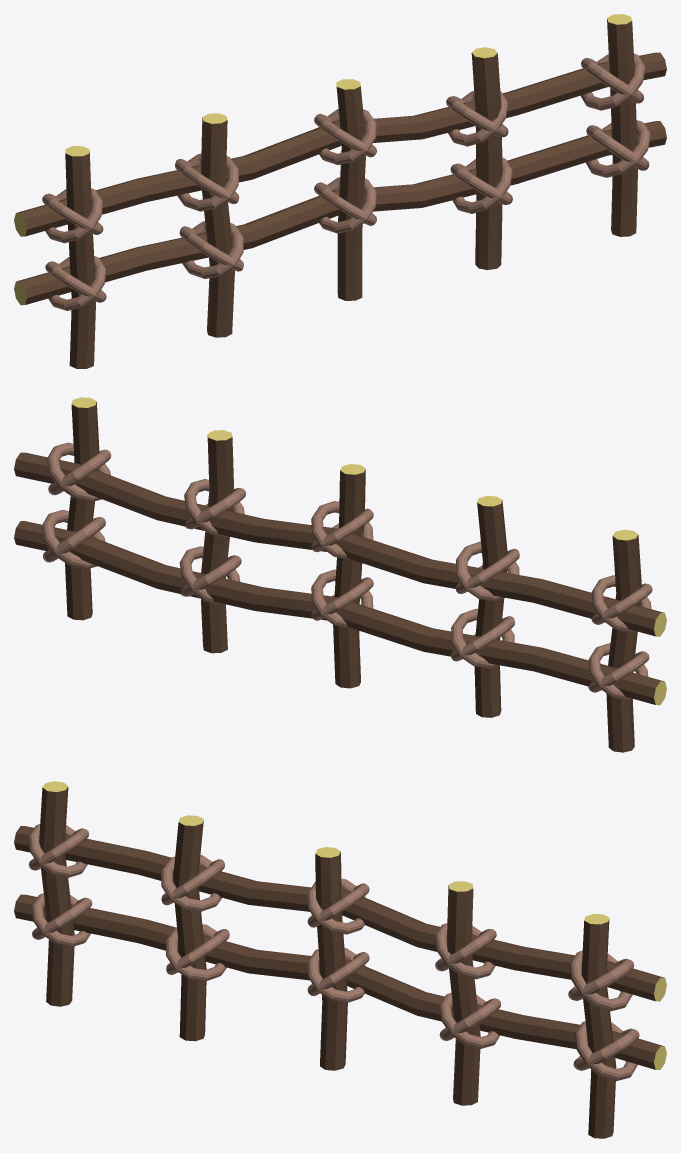
Rendered from ModelFence_01.fbx.
The picture shows the model from 3 angles, top to bottom: view 1: azimuth 30°, elevation 25°; view 2: azimuth 150°, elevation 25°; view 3: azimuth 330°, elevation 25°; orthographic projection.
Visible parts, largest first — view 1: Fence_eda; view 2: Fence_eda; view 3: Fence_eda.
Boxes of the visible parts, x1=… form: Fence_eda: x1=14, y1=14, x2=666, y2=368; Fence_eda: x1=14, y1=397, x2=666, y2=752; Fence_eda: x1=14, y1=781, x2=666, y2=1138.
Bounding box in the file's own units: 200 × 63.7 × 25.29.
